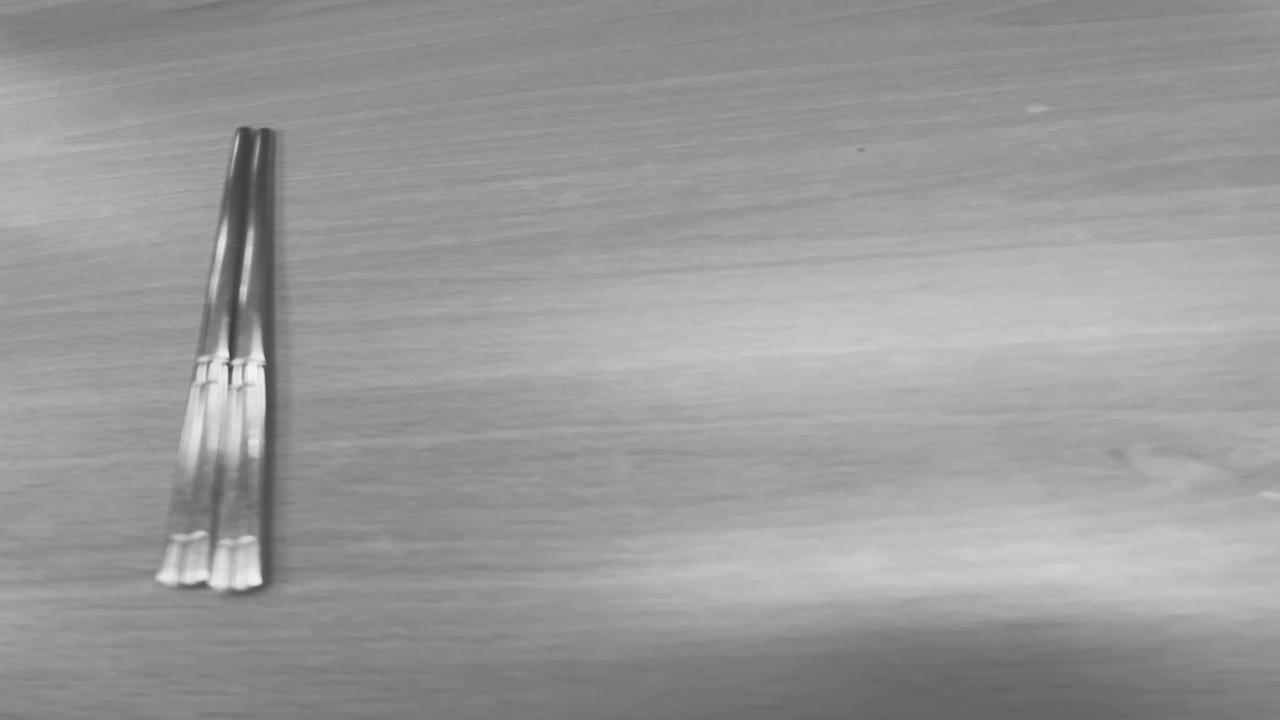chopstick: (161, 127, 271, 592)
